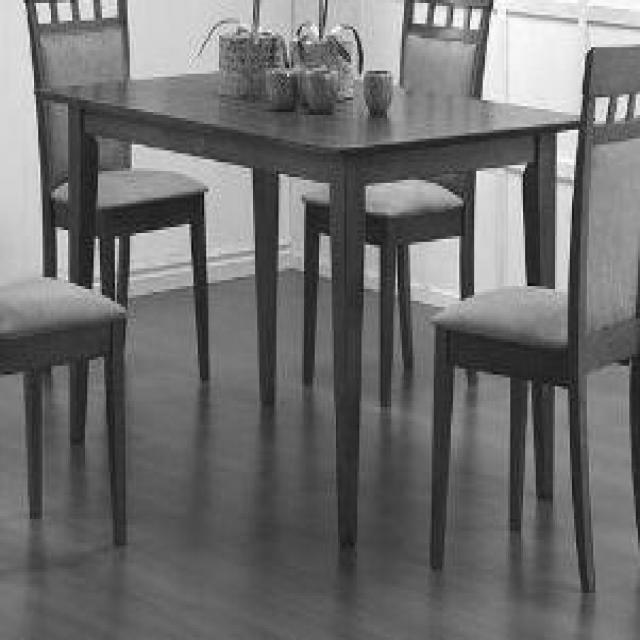chair: (429, 44, 638, 593), (303, 0, 497, 394), (21, 0, 215, 390)
table: (35, 77, 590, 568)
